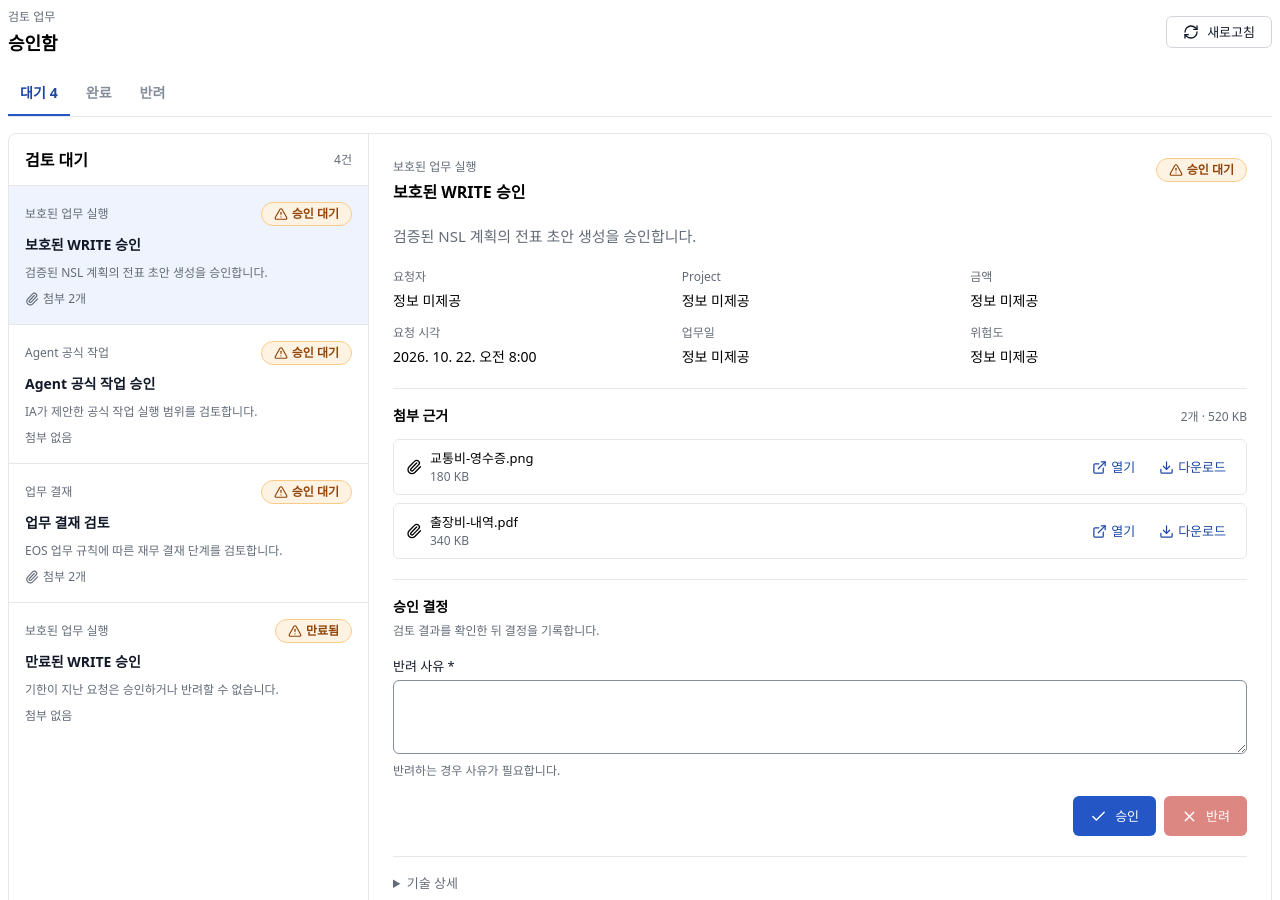
Approval Inbox React surface › maps APPROVAL_DECISION_UNAUTHORIZED decision failures to safe guidance
Expected: the heading "보호된 WRITE 승인" is shown, [393,180,525,204]
Click the button "승인": (1115, 816) [1073,796,1156,836]
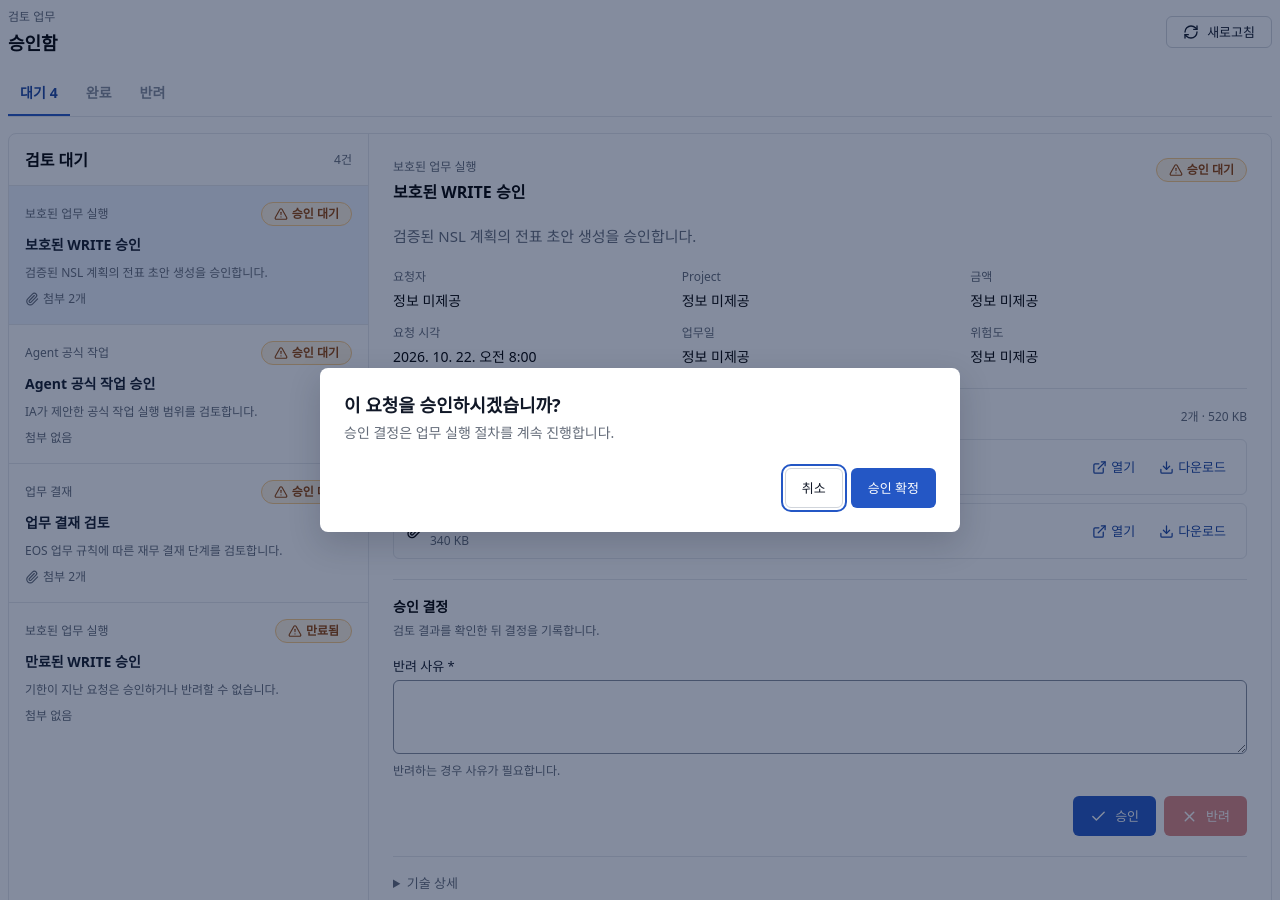
Click the button "승인 확정": (893, 488) [851,468,936,508]
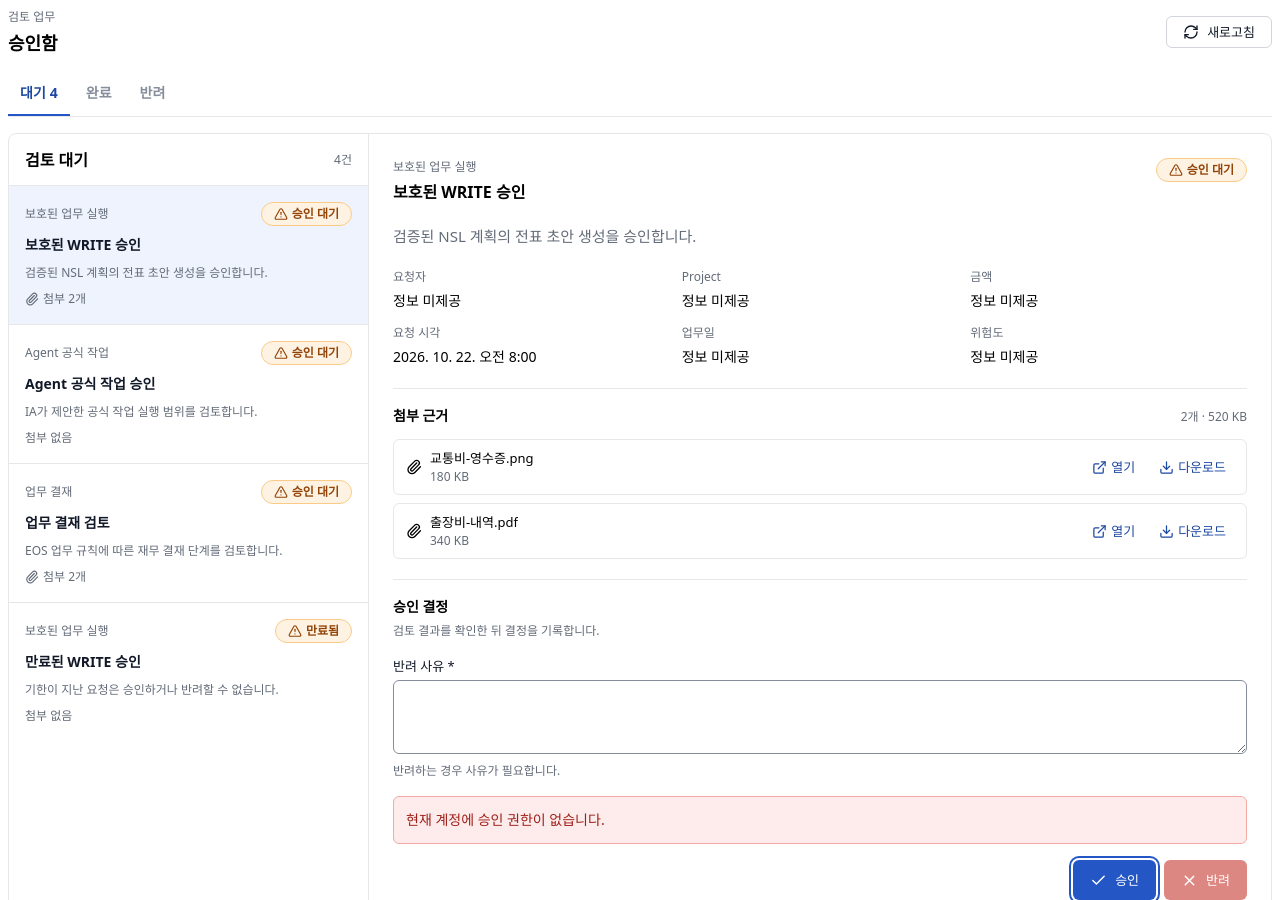
Expected: the message does not show "protected backend detail", [393,796,1247,844]
Expected: the message reads "현재 계정에 승인 권한이 없습니다.", [406,810,605,829]
